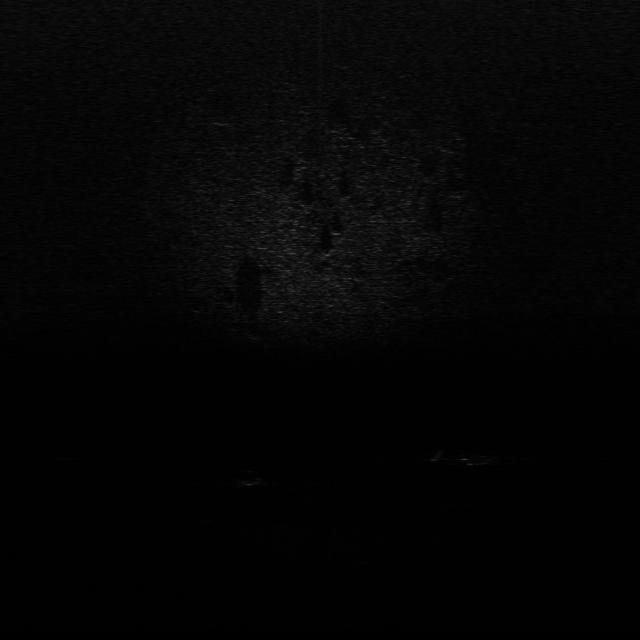ball: (231, 468, 268, 491)
human body: (434, 449, 534, 469)
